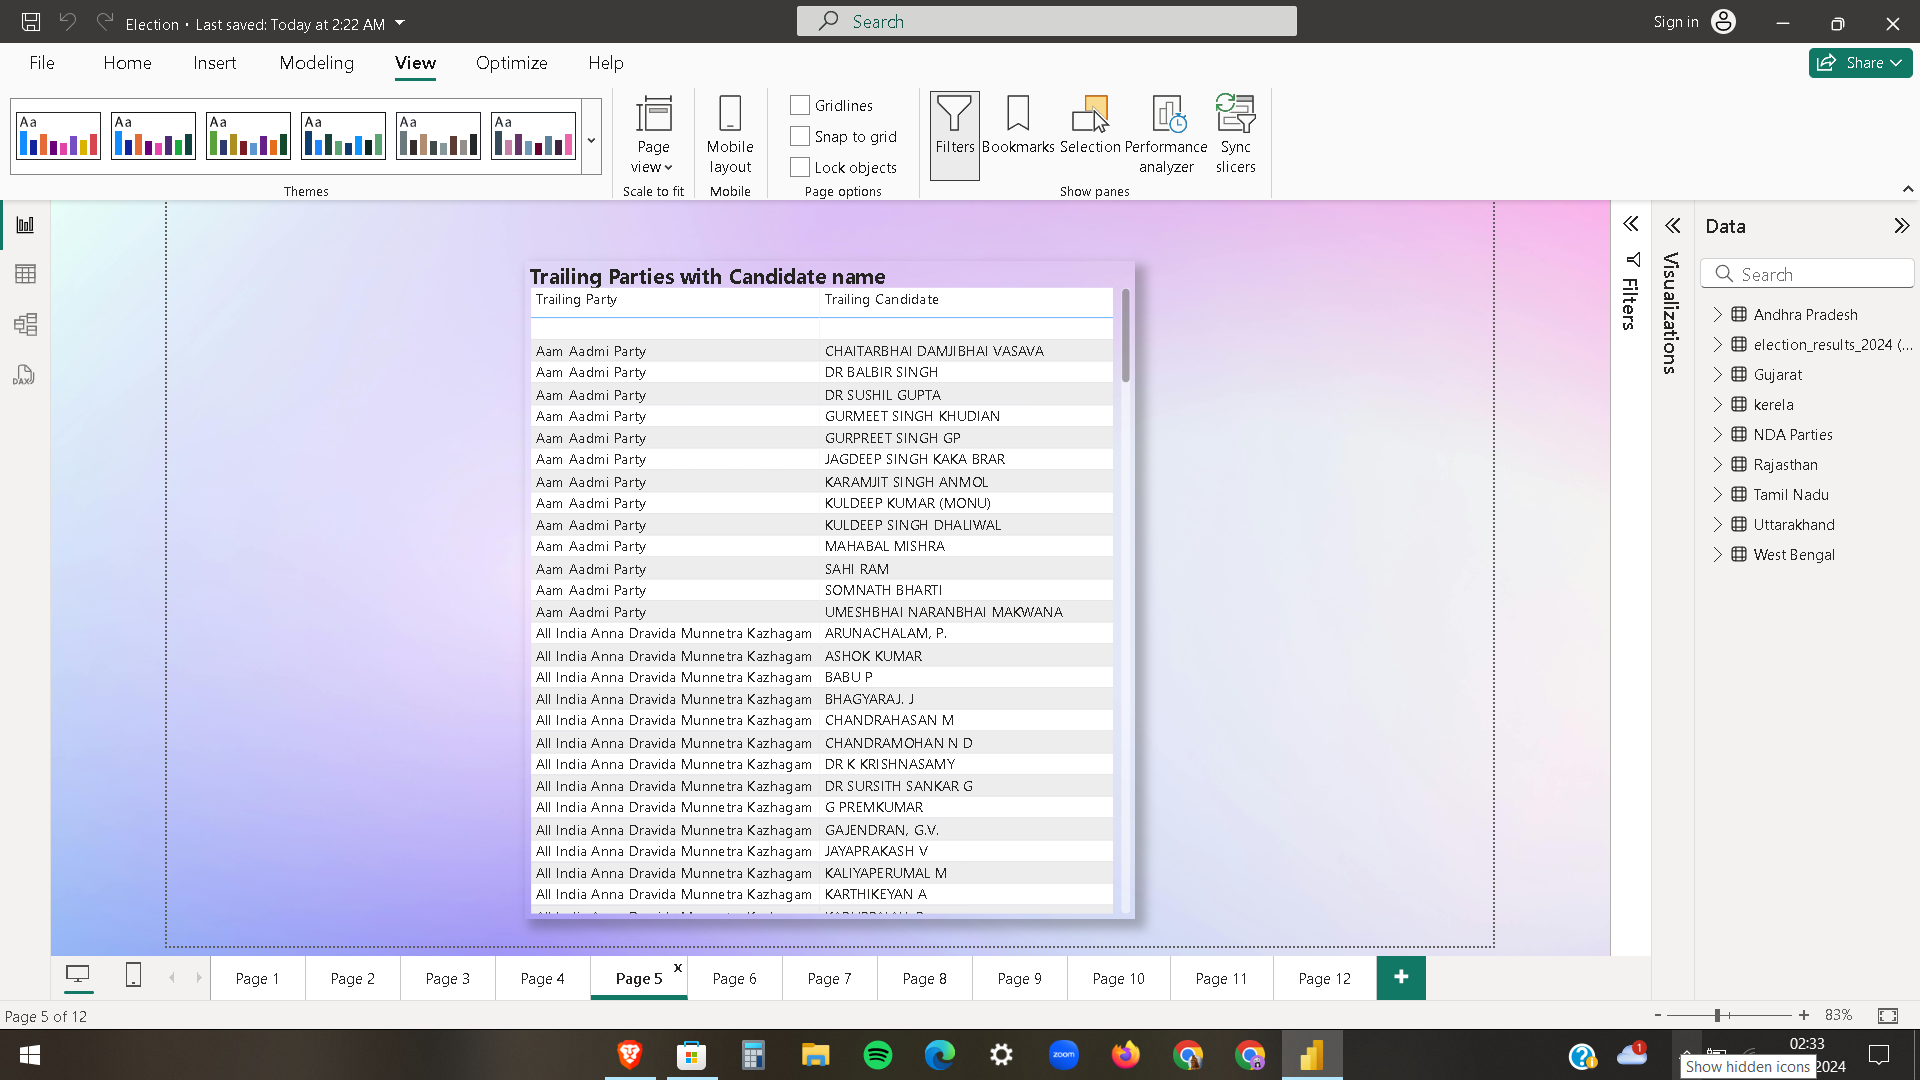

Layout of this report page (visuals, bound fields, positions):
{"tool":"powerbi","page":{"name":"Page 5","canvas":[1280,720],"ordinal":4},"visuals":[{"type":"tableEx","title":"Trailing Parties with Candidate name","fields":{"Values":["election_results_2024.Trailing Party","election_results_2024.Trailing Candidate"]},"box":[345,59.1,589.9,634.6],"z":0}]}

Visuals, with their boxes on the page's 1280x720 design canvas (x1, y1, x2, y2). These are canvas units, not pixel positions in the 1920x1080 screenshot, which may show the page scaled, cropped or inside an application window:
"Trailing Parties with Candidate name" tableEx: bbox=[345, 59, 935, 694]
